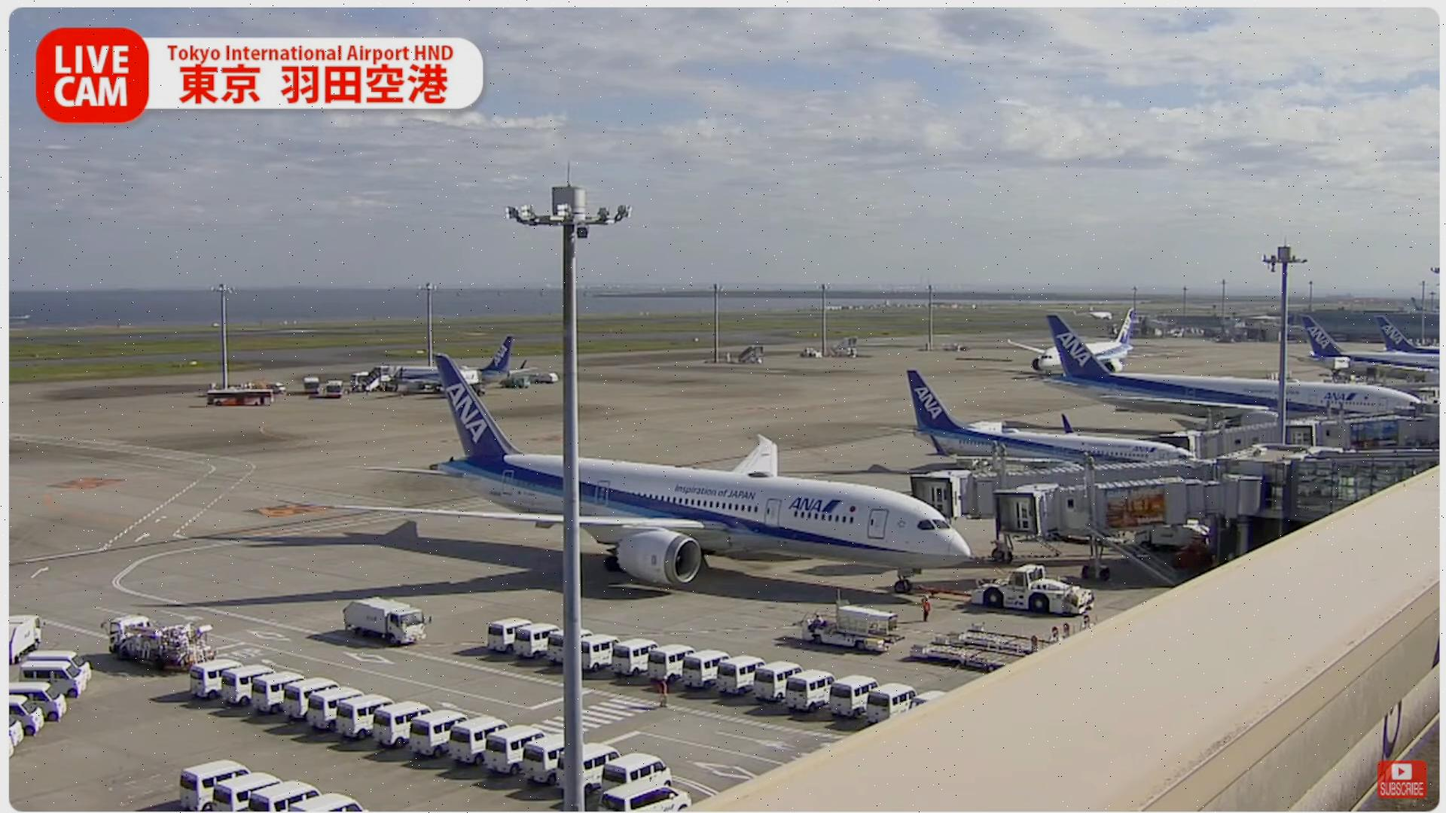APS: (969, 564, 1106, 619)
Aerobridge: (908, 457, 1217, 520), (983, 476, 1264, 540)
Airplane: (330, 354, 973, 599)
Baggage truck: (339, 590, 434, 648)
JCPL: (946, 622, 1056, 658), (909, 640, 1028, 672)
Skyloader: (799, 603, 905, 657)
Window: (1290, 456, 1440, 523)
